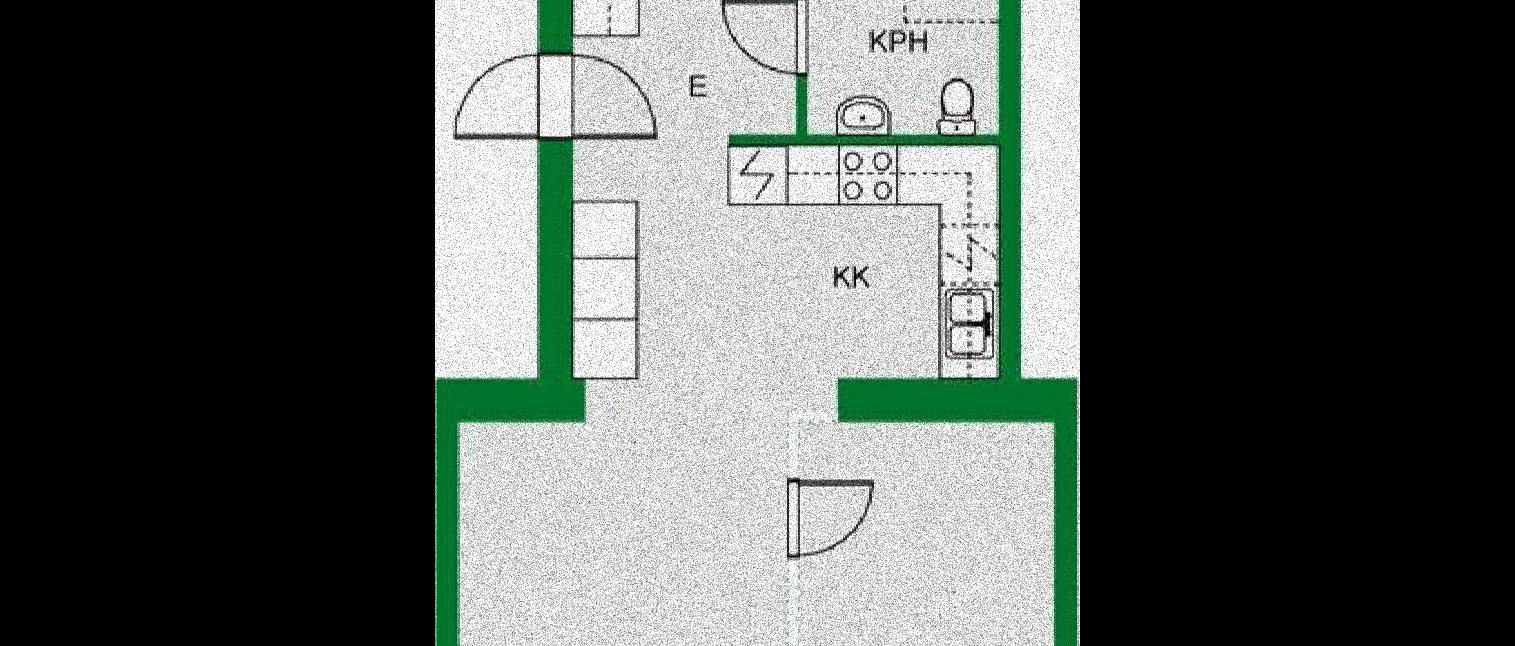door: (446, 52, 660, 142), (774, 474, 880, 570), (701, 0, 807, 77)
zone: (457, 421, 1051, 646), (570, 140, 997, 426), (574, 0, 794, 138), (807, 0, 997, 132)
